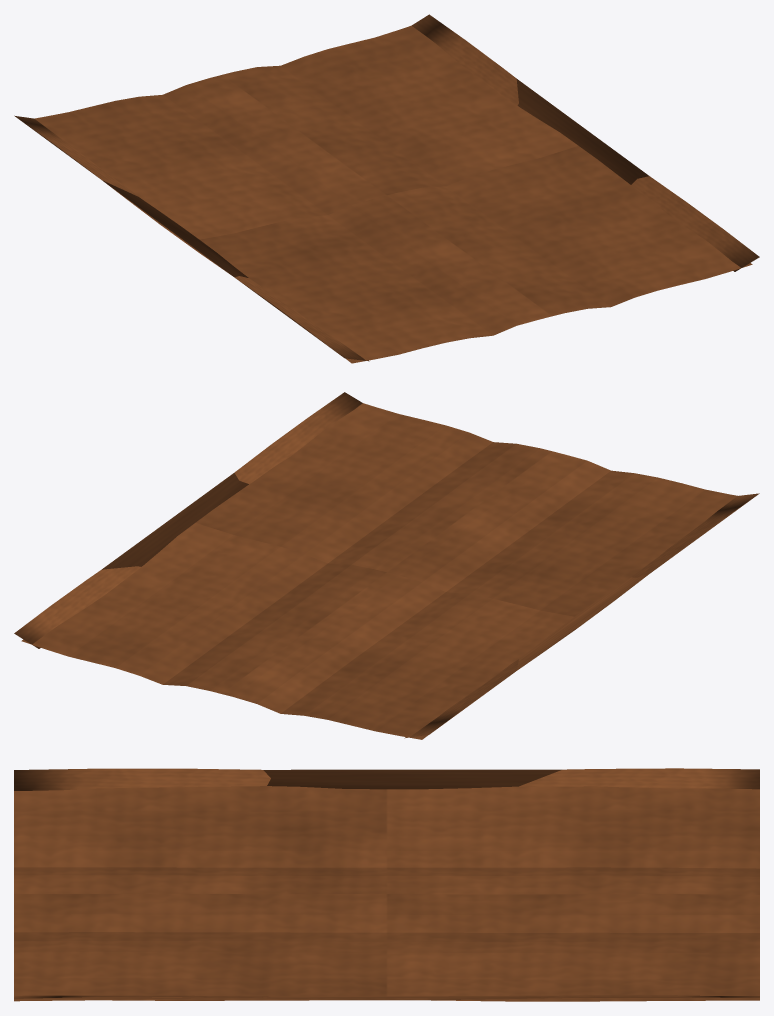
File: SM_RoadSegment.fbx
3 renders of one model, top to bottom at view 1: azimuth 30°, elevation 25°; view 2: azimuth 150°, elevation 25°; view 3: azimuth 270°, elevation 25°, orthographic. The views are drawn at different scales.
Parts seen in each view (by area): view 1: SM_RoadSegment; view 2: SM_RoadSegment; view 3: SM_RoadSegment.
Part boxes in pixels (x1=…): SM_RoadSegment: x1=14, y1=14, x2=759, y2=363; SM_RoadSegment: x1=14, y1=392, x2=759, y2=739; SM_RoadSegment: x1=14, y1=768, x2=759, y2=1001.
Bounding box in the file's own units: 580 × 21.63 × 800.
